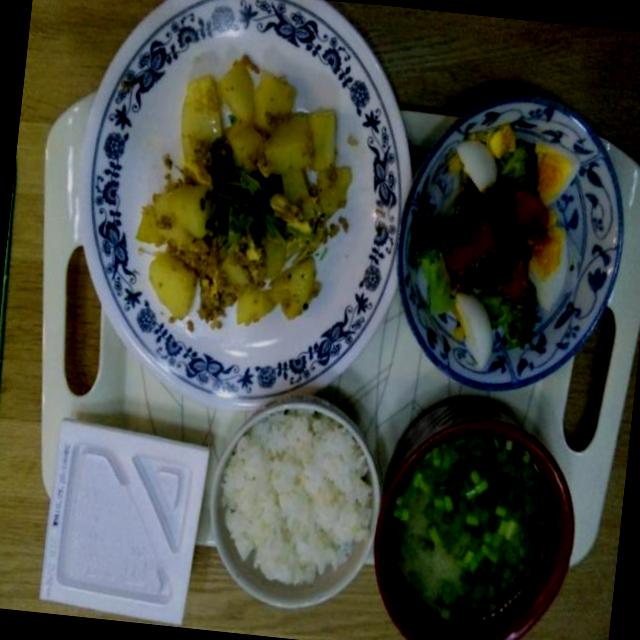Rice: (194, 372, 398, 622)
